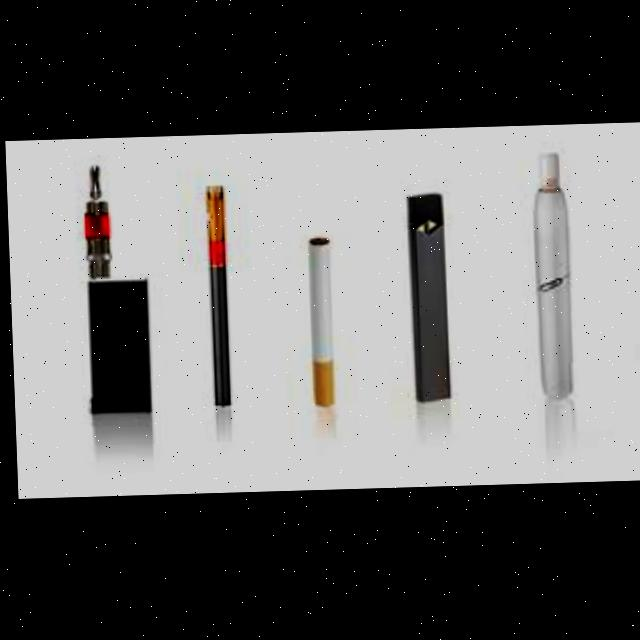cigarette: (306, 240, 332, 408)
vape: (82, 165, 149, 414), (528, 158, 571, 403), (405, 195, 449, 405), (204, 187, 230, 407)
